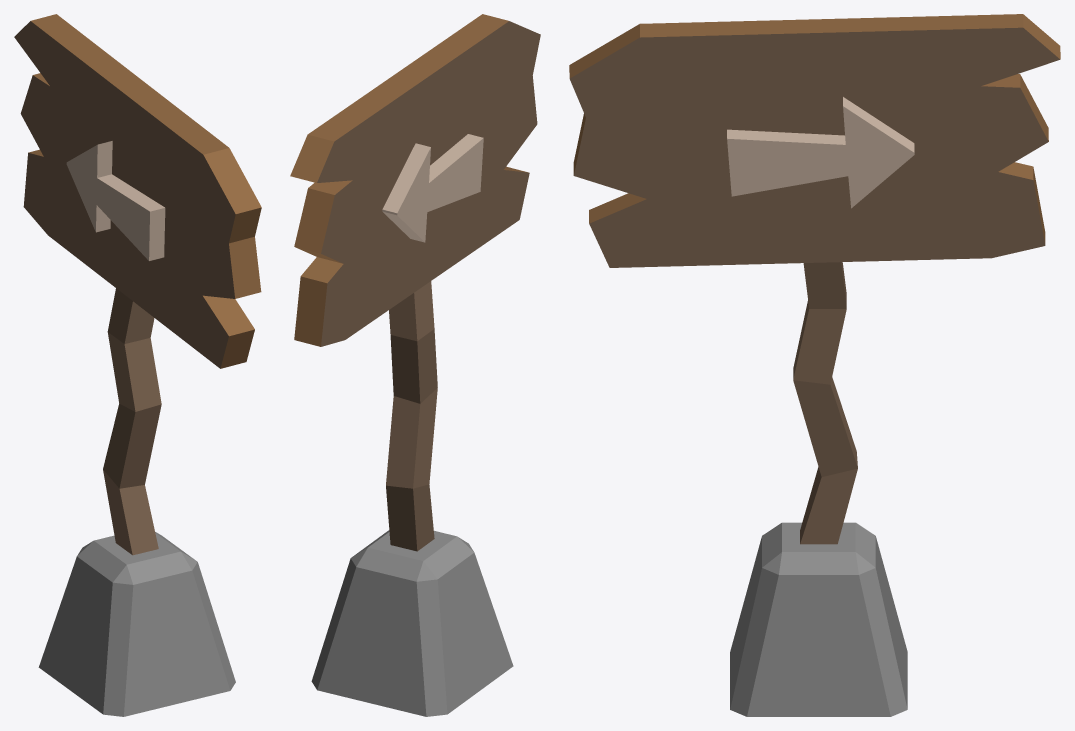
The model's file is Sign-LR.fbx.
3 renders of one model, left to right at view 1: azimuth 30°, elevation 25°; view 2: azimuth 150°, elevation 25°; view 3: azimuth 270°, elevation 25°, orthographic. The views are drawn at different scales.
Parts seen in each view (by area): view 1: Cube, Cube.001; view 2: Cube, Cube.001; view 3: Cube, Cube.001.
Boxes of the visible parts, bbox=[...] form: Cube: bbox=[14, 14, 261, 716]; Cube.001: bbox=[66, 141, 165, 260]; Cube: bbox=[290, 14, 540, 716]; Cube.001: bbox=[382, 134, 483, 242]; Cube: bbox=[569, 14, 1060, 716]; Cube.001: bbox=[727, 97, 914, 208].
Bounding box in the file's own units: 34.6 × 147 × 99.39.
